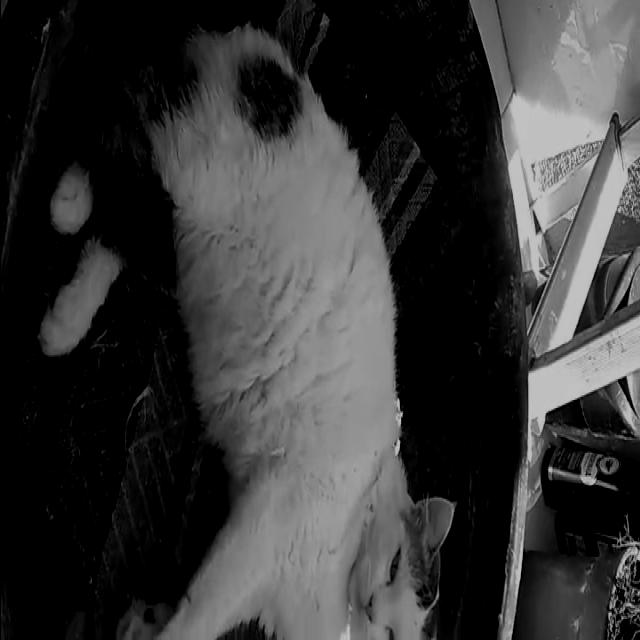Simba: (44, 16, 454, 638)
